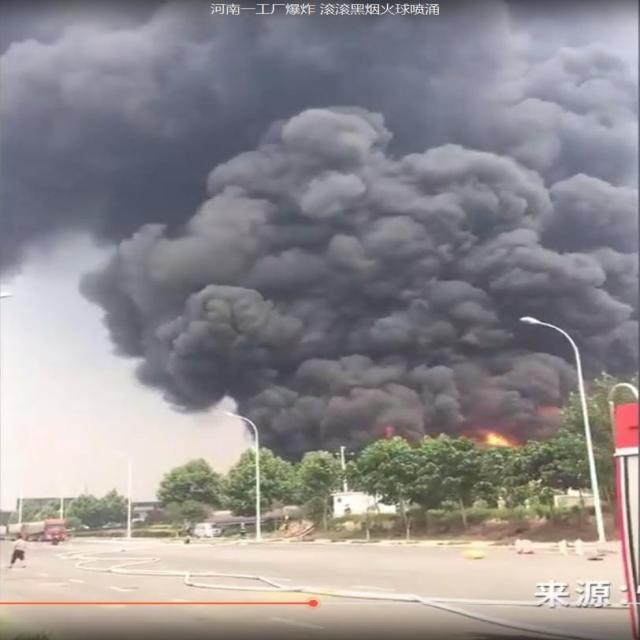Fire: (481, 429, 514, 446)
Smoke: (1, 1, 638, 463)
